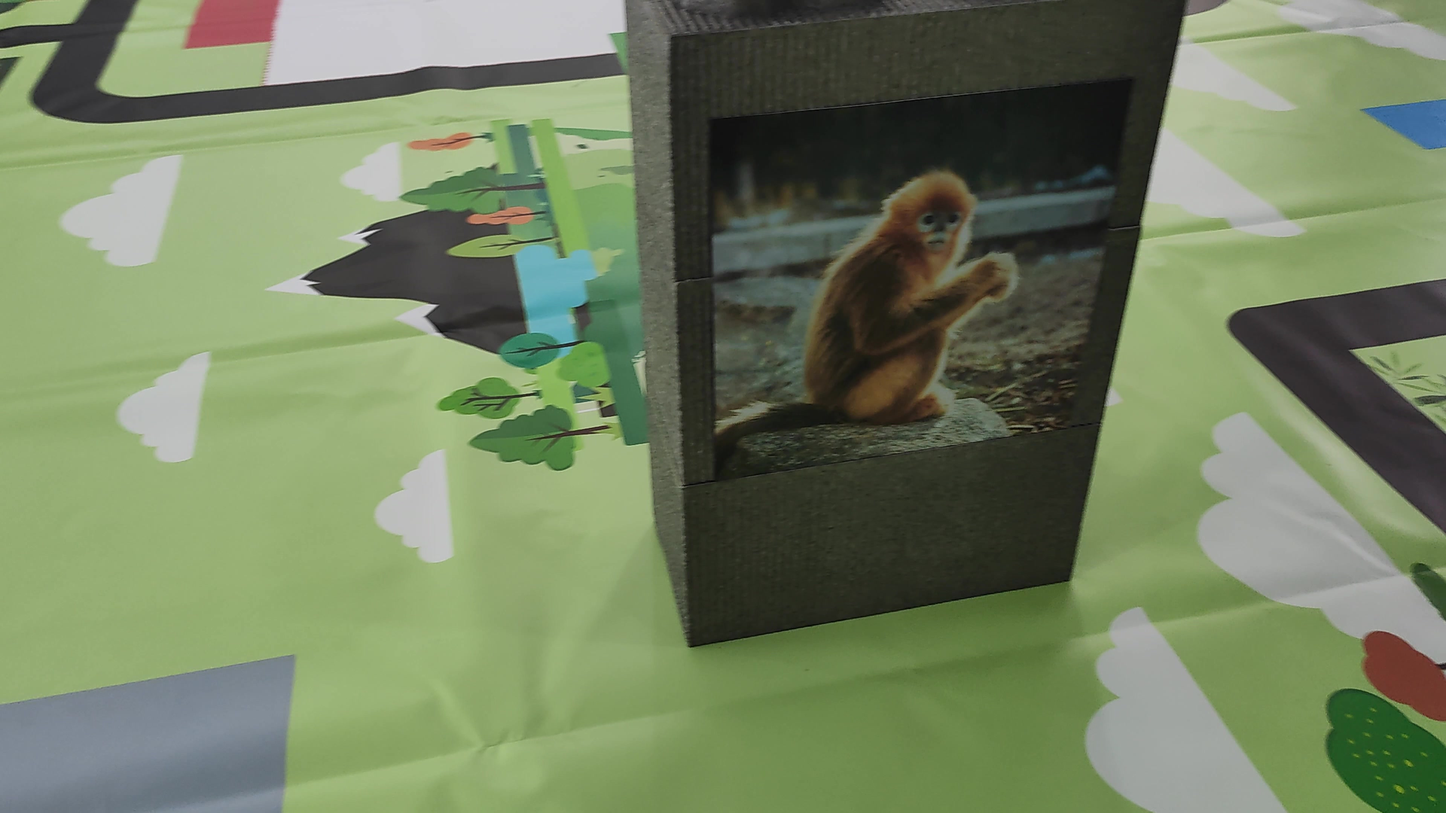monkey: (770, 161, 1037, 425)
